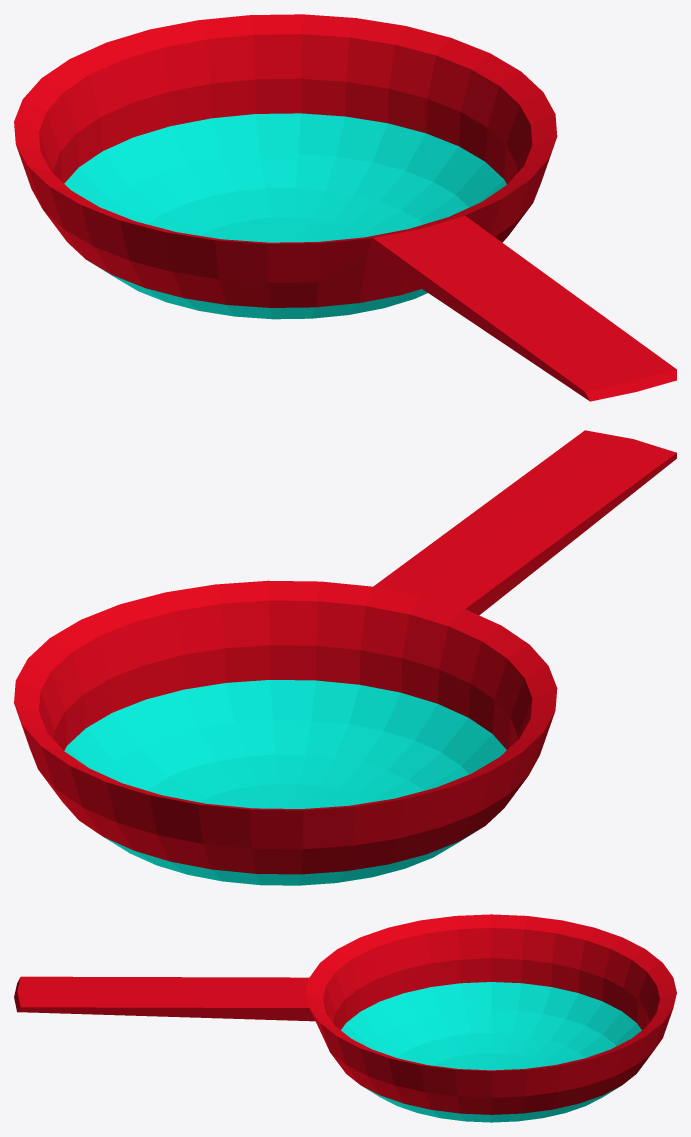
Rendered from strainer.fbx.
The picture shows the model from 3 angles, top to bottom: view 1: azimuth 30°, elevation 25°; view 2: azimuth 150°, elevation 25°; view 3: azimuth 270°, elevation 25°; orthographic projection. The views are drawn at different scales.
Parts seen in each view (by area): view 1: Sphere; view 2: Sphere; view 3: Sphere.
Part boxes in pixels (bbox=[...]): Sphere: bbox=[14, 14, 676, 401]; Sphere: bbox=[14, 430, 676, 885]; Sphere: bbox=[14, 914, 676, 1122].
Size of the model in its own units: 196 by 55.27 by 350.
